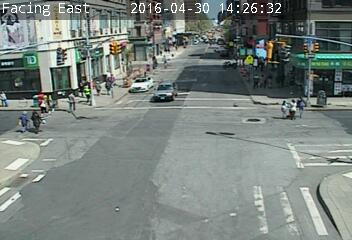neg: (118, 69, 141, 99), (184, 66, 203, 90), (66, 149, 84, 172), (108, 123, 124, 145), (217, 98, 232, 117), (210, 58, 223, 75), (87, 32, 99, 48), (214, 139, 226, 155), (236, 168, 247, 183), (63, 51, 74, 66), (153, 83, 164, 97), (165, 44, 175, 57), (136, 142, 146, 155), (125, 25, 135, 38), (201, 12, 210, 24), (131, 107, 140, 119), (265, 200, 274, 212), (173, 123, 182, 134), (207, 200, 216, 211), (165, 173, 173, 184), (143, 60, 151, 71), (195, 115, 203, 126), (195, 38, 203, 48), (258, 139, 266, 149), (98, 154, 106, 164), (154, 21, 161, 30), (122, 180, 129, 189), (238, 33, 244, 41), (197, 146, 203, 154)
pos: (290, 93, 311, 120), (275, 100, 294, 125), (26, 109, 45, 134), (14, 109, 31, 132), (33, 93, 50, 115), (63, 93, 80, 115), (286, 97, 302, 117), (100, 78, 116, 98), (43, 93, 57, 112), (79, 85, 93, 104), (249, 73, 262, 90), (92, 79, 104, 95), (72, 79, 83, 93)
